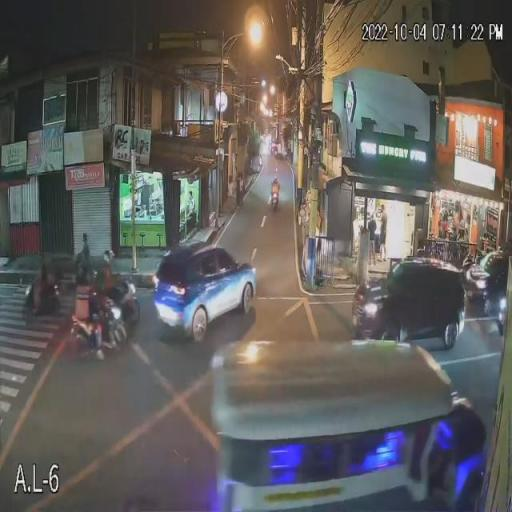motorcycle: (63, 296, 129, 352)
rider: (83, 284, 112, 360), (87, 267, 107, 290)
